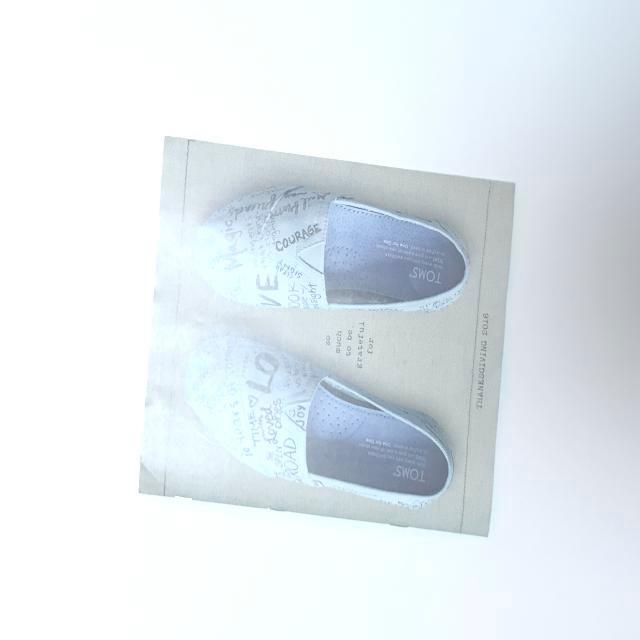paper: (138, 128, 516, 540)
